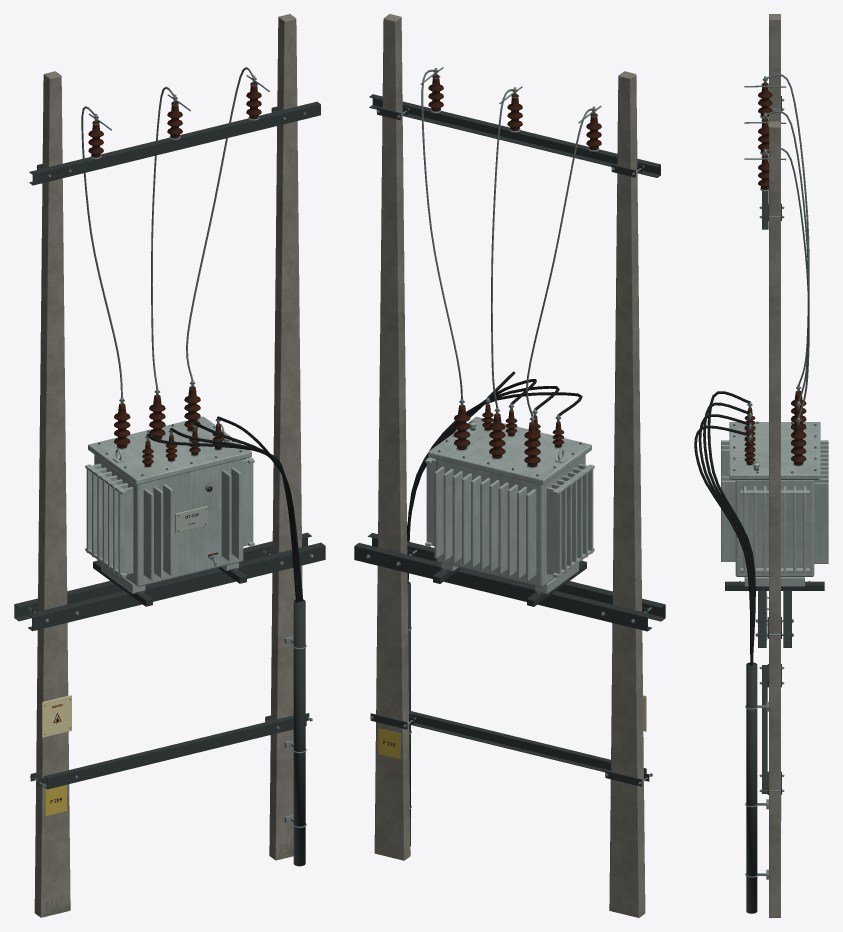
The picture shows the model from 3 angles, left to right: view 1: azimuth 30°, elevation 25°; view 2: azimuth 150°, elevation 25°; view 3: azimuth 270°, elevation 25°; orthographic projection. The views are drawn at different scales.
Visible parts, largest first — view 1: TF3_KR_U02; view 2: TF3_KR_U02; view 3: TF3_KR_U02.
Part boxes in pixels (x1,y1,x2,y2): TF3_KR_U02: [14, 14, 325, 917]; TF3_KR_U02: [354, 14, 665, 917]; TF3_KR_U02: [694, 14, 828, 917].
Size of the model in its own units: 2.75 by 7.5 by 1.16.
Materials: 19 (5 with a texture image).
